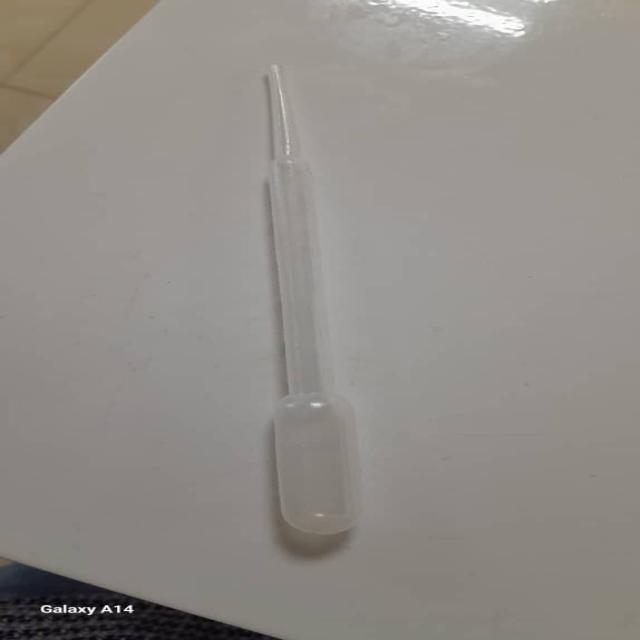Droppers: (234, 69, 385, 540)
